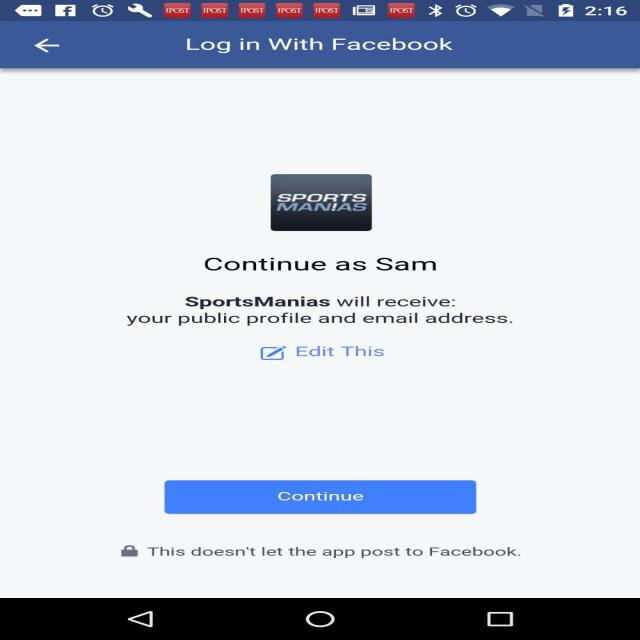button: (31, 37, 493, 63), (156, 472, 430, 512), (245, 342, 418, 364)
icon: (100, 540, 154, 563)
image: (251, 161, 395, 235)
text: (106, 288, 530, 336), (210, 256, 463, 279), (158, 544, 532, 559)
